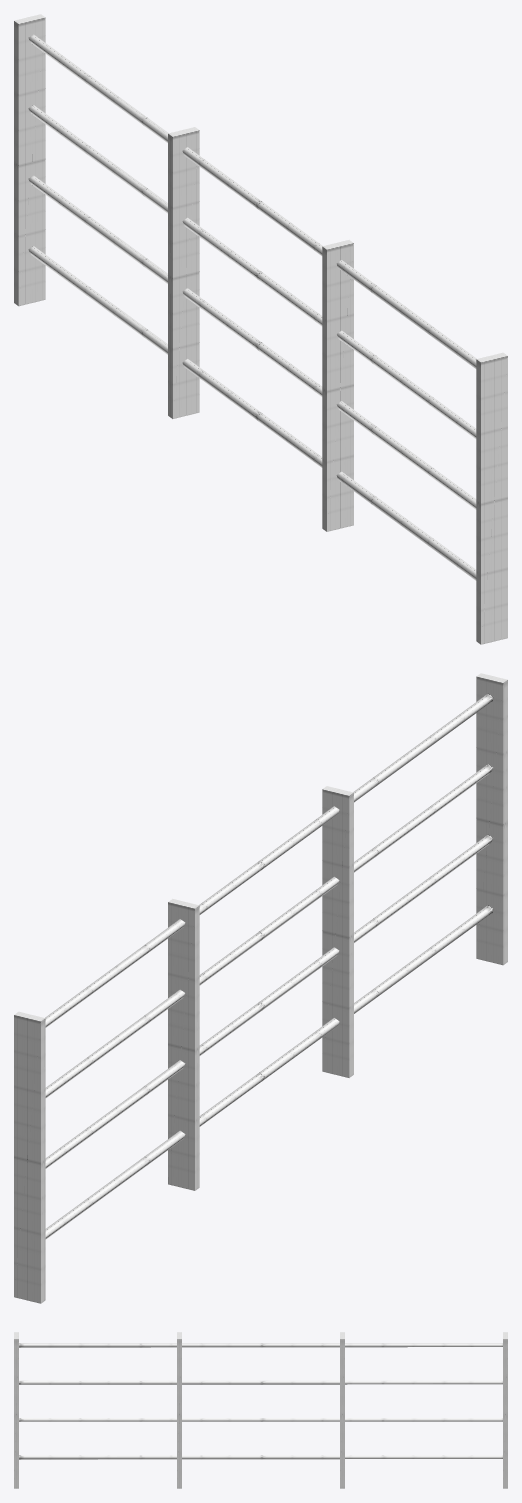
The model's file is wall.low.barrier.glb.
3 renders of one model, top to bottom at view 1: azimuth 30°, elevation 25°; view 2: azimuth 150°, elevation 25°; view 3: azimuth 270°, elevation 25°, orthographic. The views are drawn at different scales.
Visible parts, largest first — view 1: wall.low.barrier; view 2: wall.low.barrier; view 3: wall.low.barrier.
Part boxes in pixels (x1,y1,x2,y2): wall.low.barrier: (14,14,507,644); wall.low.barrier: (14,673,507,1303); wall.low.barrier: (14,1332,507,1488).
Size of the model in its own units: 0.1 by 1 by 3.
1 material, 1 textured.
